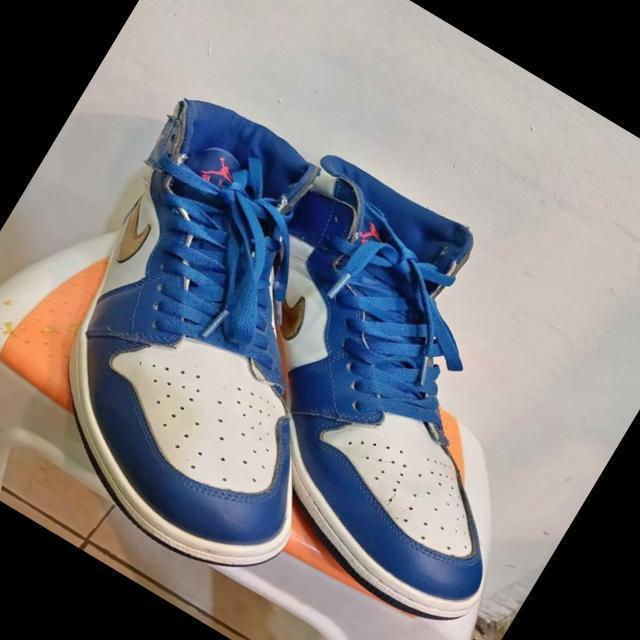nike fake jordan 1: (59, 95, 640, 640), (0, 81, 465, 603)
